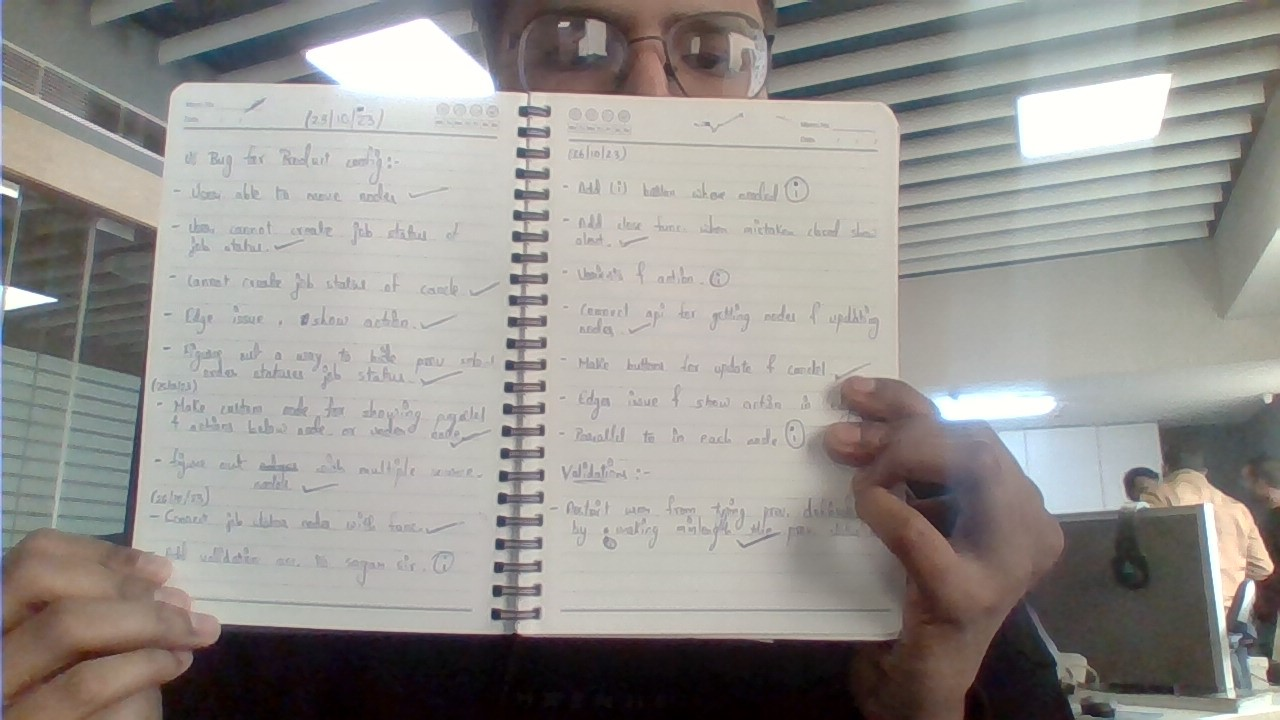notebook: (119, 78, 540, 636), (517, 82, 916, 649)
